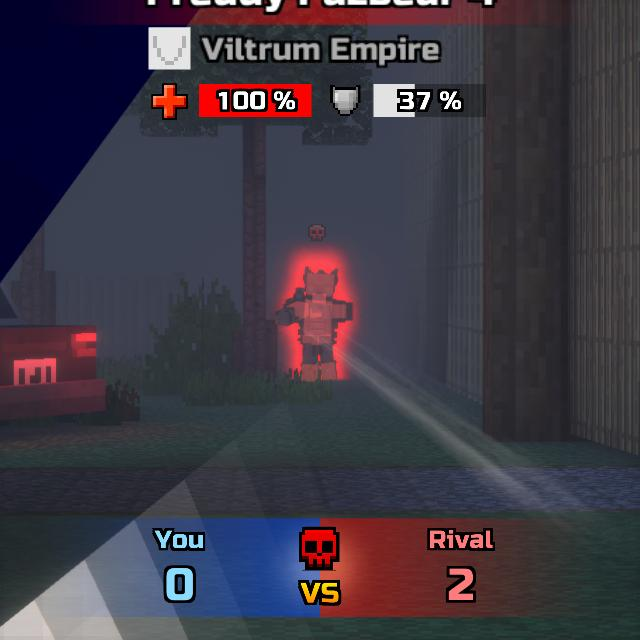Enemy: (280, 270, 355, 384)
